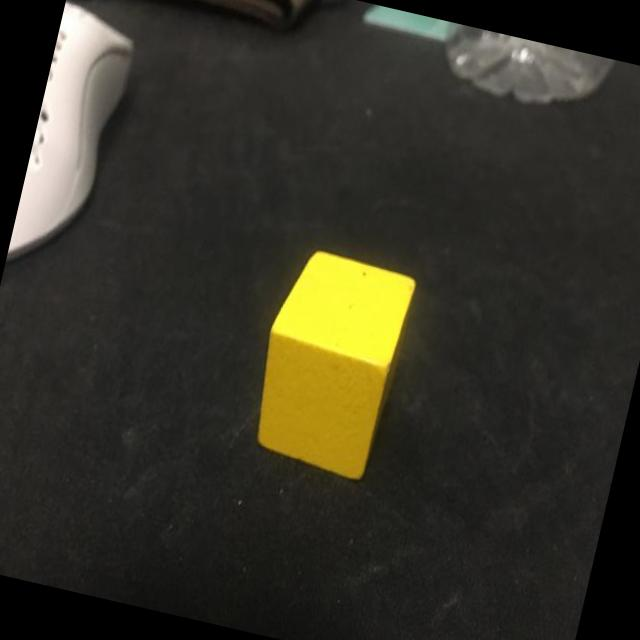yellow: (243, 244, 420, 482)
